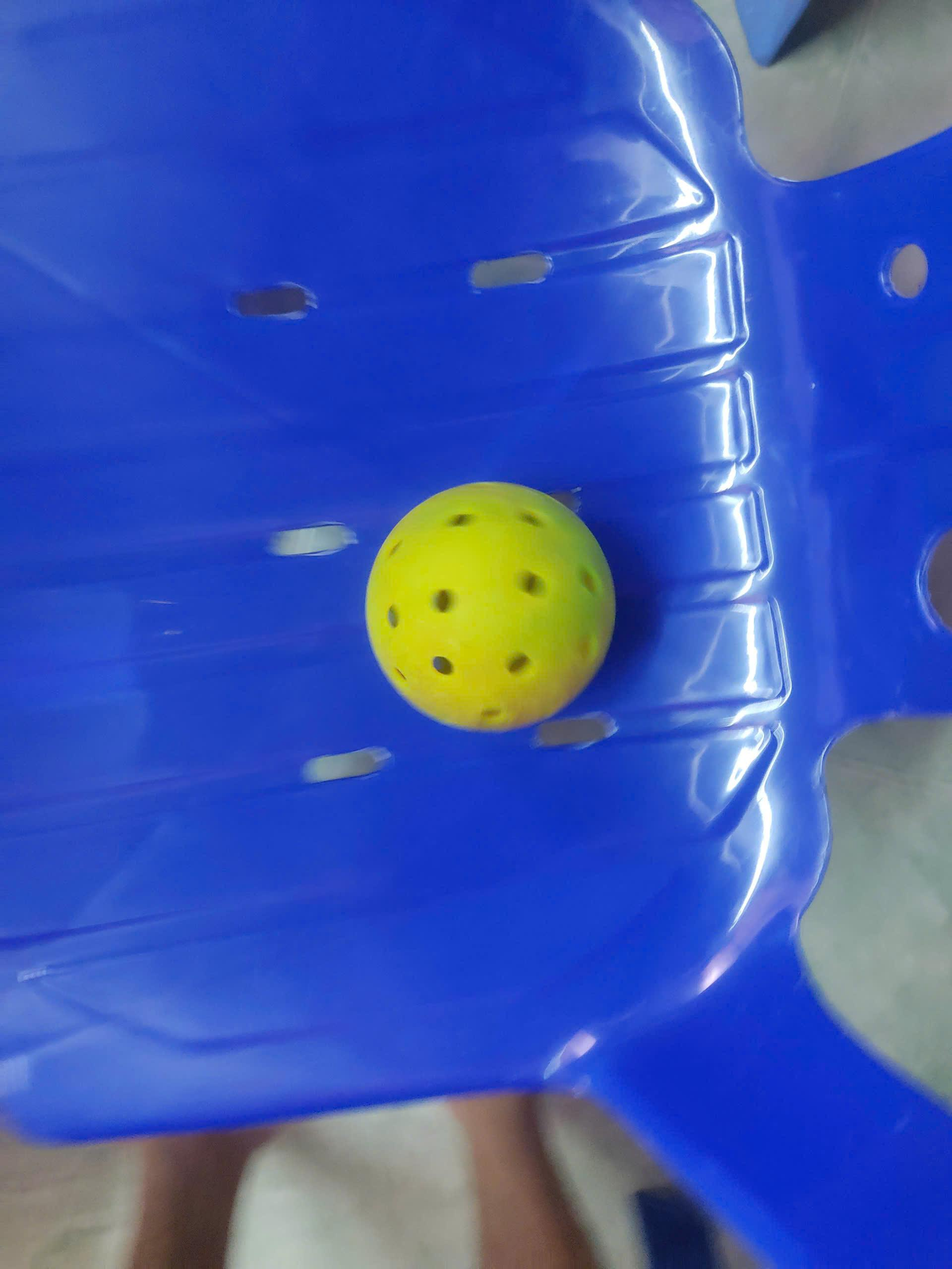ball: (362, 474, 631, 737)
